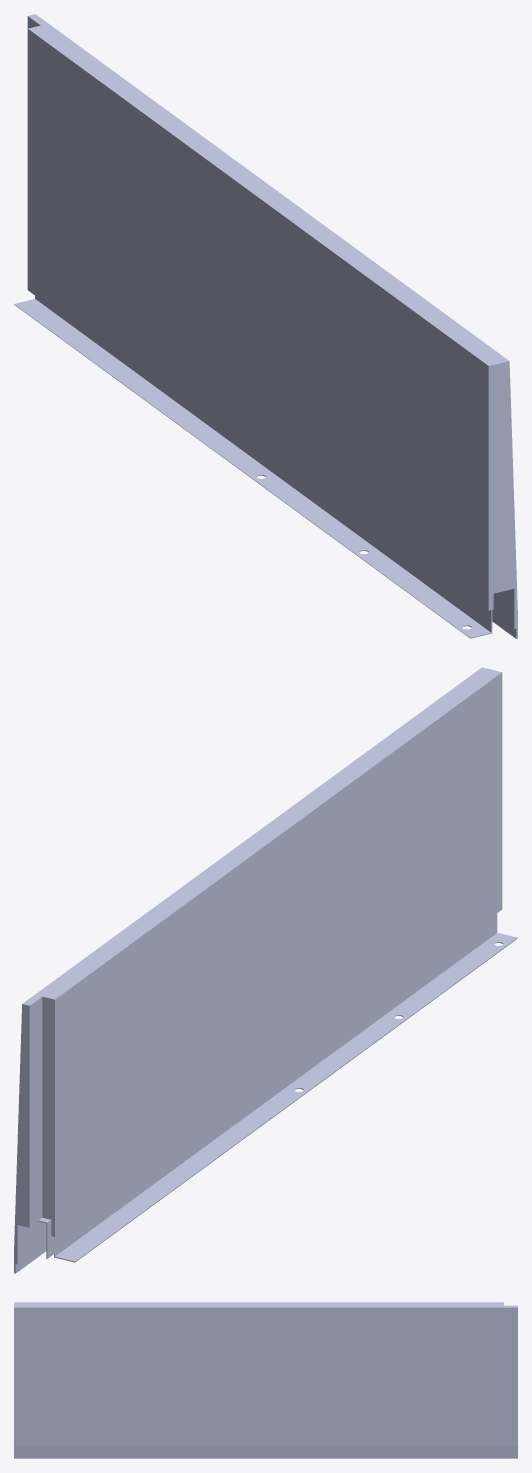
Rendered from mv-kava-E600-m.glb.
3 views of the same model, one above another, from view 1: azimuth 30°, elevation 25°; view 2: azimuth 150°, elevation 25°; view 3: azimuth 270°, elevation 25° (orthographic). The views are drawn at different scales.
Parts seen in each view (by area): view 1: 49807900; view 2: 49807900; view 3: 49807900.
Part boxes in pixels (x1,y1,x2,y2): 49807900: (14, 14, 517, 638); 49807900: (14, 667, 517, 1273); 49807900: (14, 1302, 517, 1458).
Size of the model in its own units: 0.0335 by 0.192 by 0.5902.
